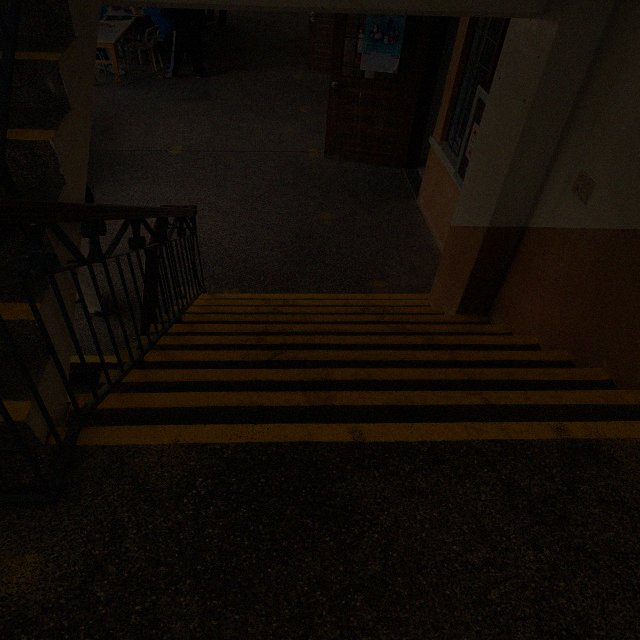stair: (79, 294, 639, 444), (0, 0, 104, 437)
